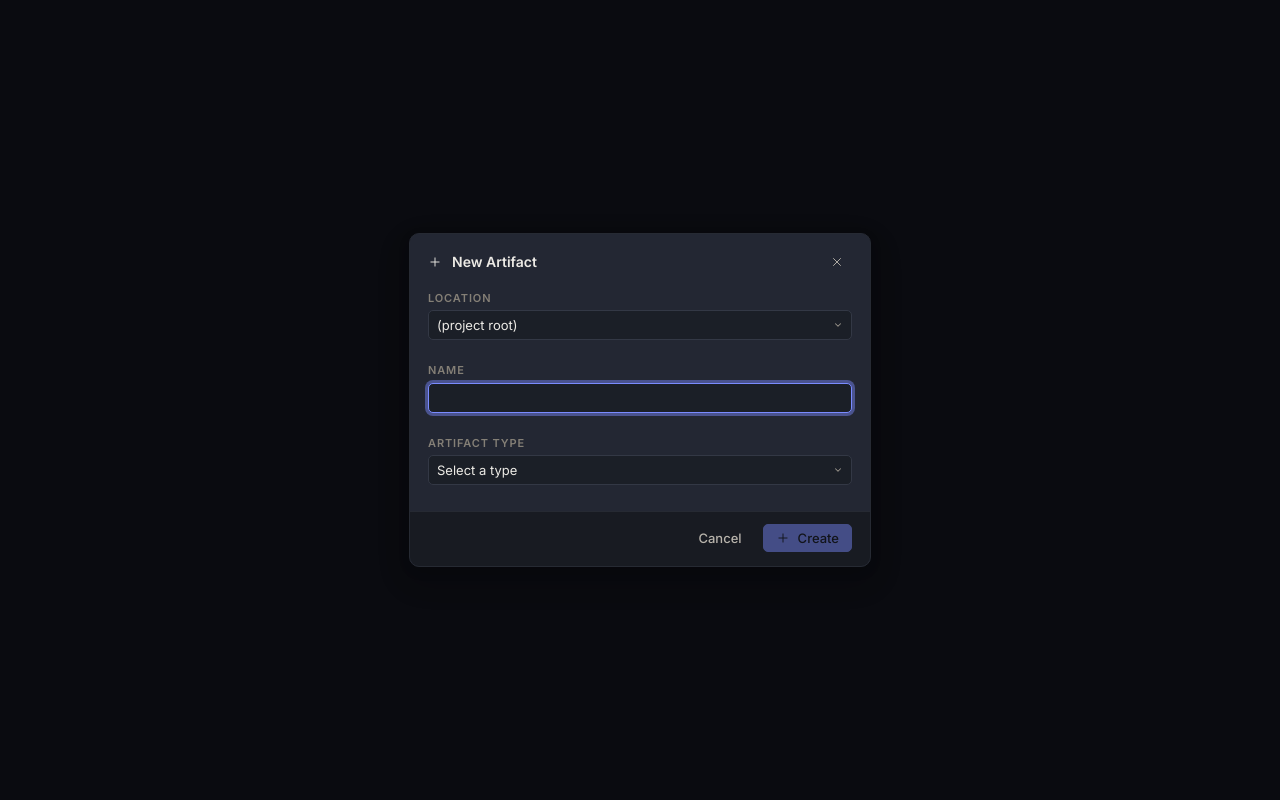
Test: New Artifact modal (NTA-new-typed-artifact.md) › NTA-FR-06, NTA-FR-09: offers exactly the nine built-in types with no unset entry
Note: A valid name with no type chosen is still not creatable.
Type "login.scenario.md" into the field named "Name (required)". click: (640, 398)
box: [428,383,852,413]
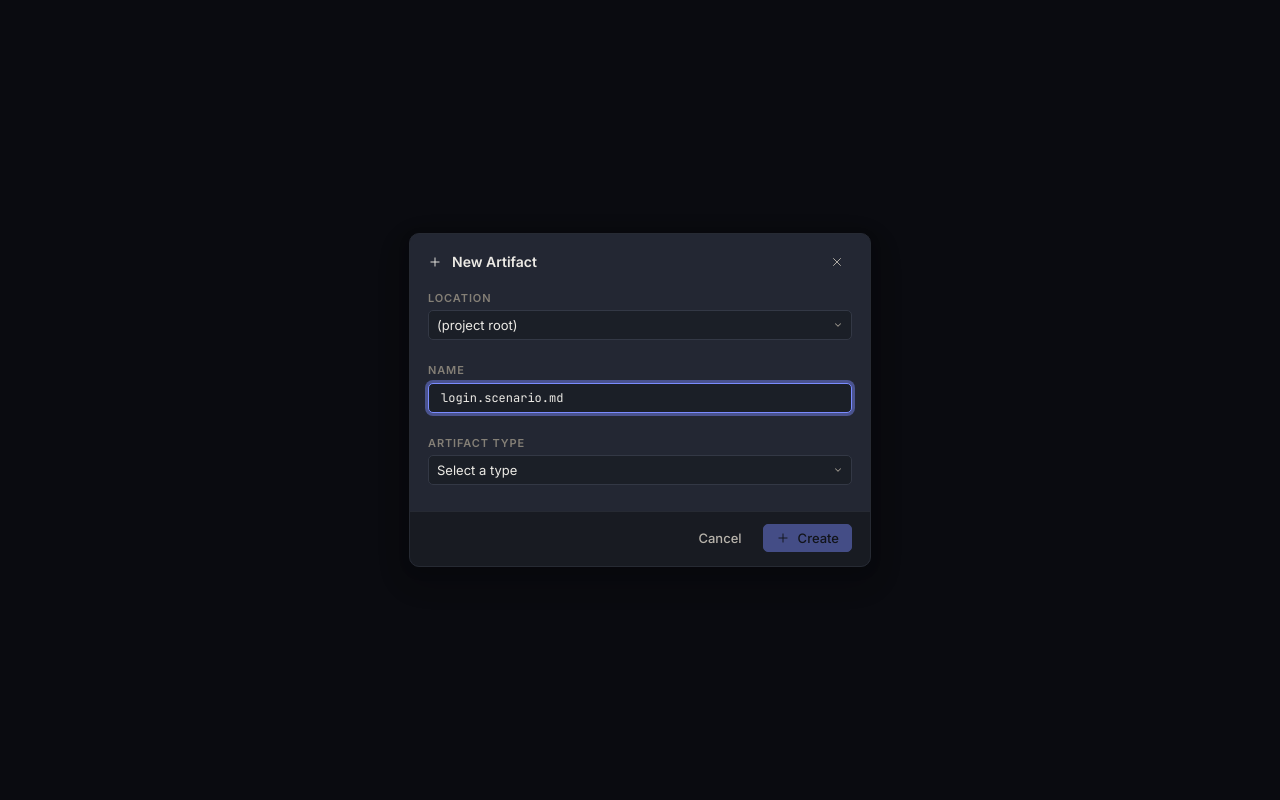
Expected: the button "Create" is disabled, [763,524,852,552]
Select "Scenario" in the dropdown named "Artifact Type (required)". click: (640, 470)
box: [428,455,852,485]
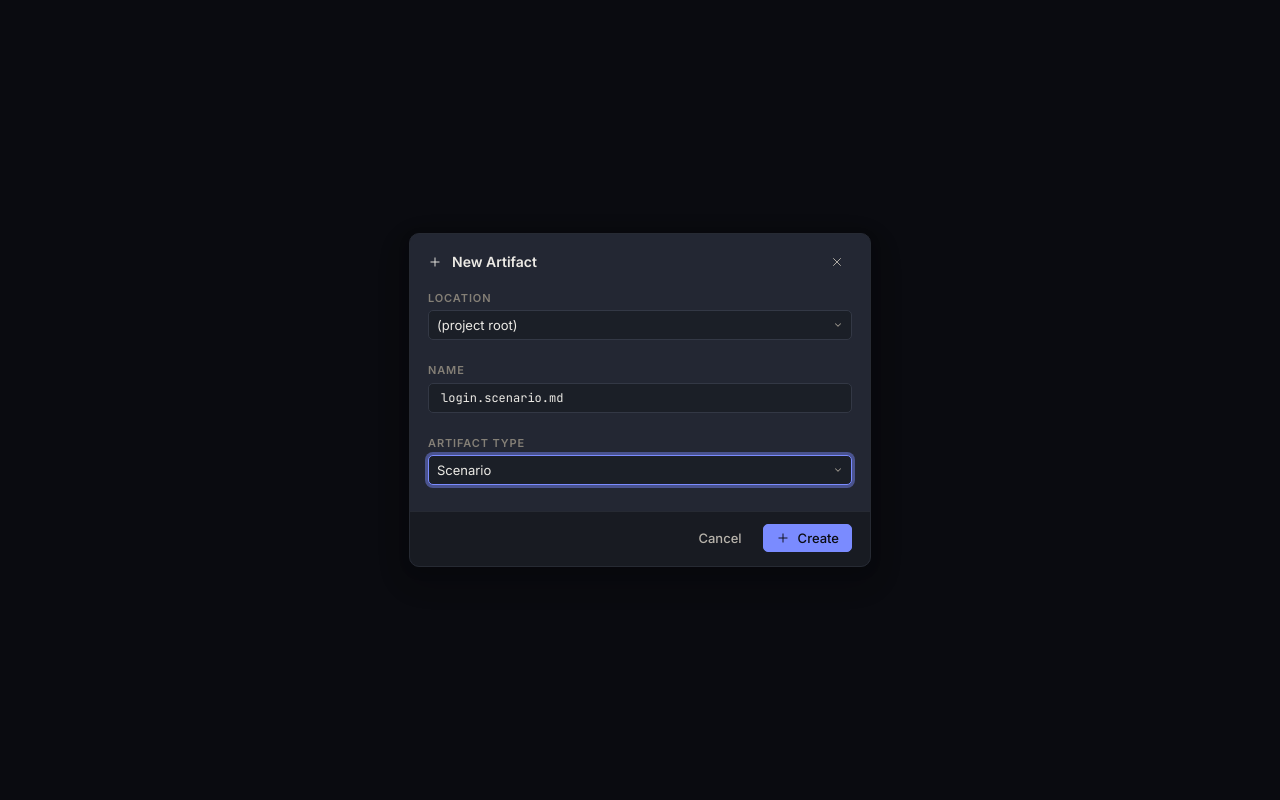
Result: the button "Create" is enabled at [763,524,852,552]
